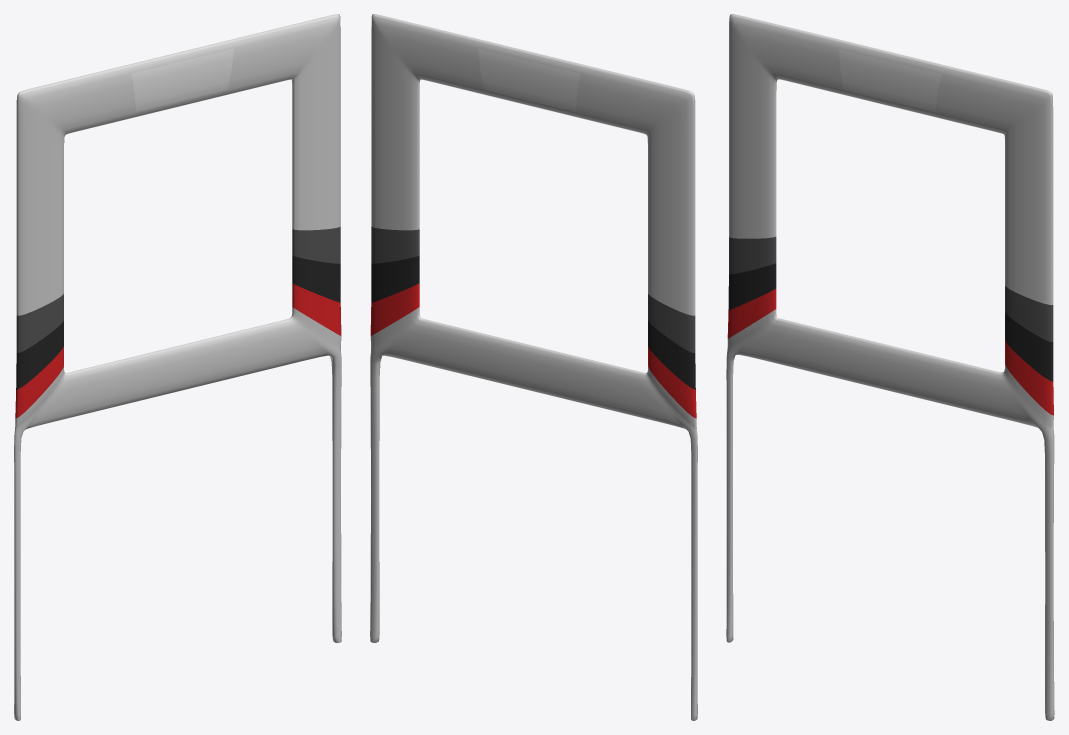
The model's file is square_gate3.fbx.
The picture shows the model from 3 angles, left to right: view 1: azimuth 30°, elevation 25°; view 2: azimuth 150°, elevation 25°; view 3: azimuth 330°, elevation 25°; orthographic projection.
Parts seen in each view (by area): view 1: Cube.001; view 2: Cube.001; view 3: Cube.001.
Part boxes in pixels (x1,y1,x2,y2): Cube.001: (14, 14, 341, 720); Cube.001: (370, 14, 697, 720); Cube.001: (726, 14, 1054, 720).
Size of the model in its own units: 797 by 1462 by 27.92.
